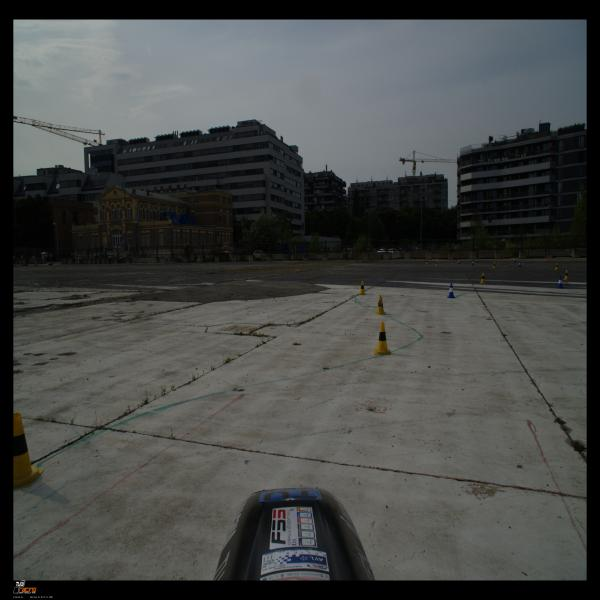blue_cone: (446, 284, 456, 298), (556, 275, 565, 288), (471, 260, 475, 266), (518, 261, 521, 267), (458, 259, 460, 264), (476, 258, 478, 263), (514, 258, 516, 262)
orange_cone: (545, 256, 547, 262), (549, 256, 551, 261)
yellow_cone: (13, 412, 44, 489), (374, 322, 391, 355), (376, 295, 386, 315), (358, 281, 366, 295), (480, 273, 486, 284), (564, 270, 570, 280), (554, 263, 559, 270), (493, 262, 496, 269), (435, 260, 438, 266), (502, 257, 505, 262), (426, 259, 428, 264), (457, 258, 459, 262)
